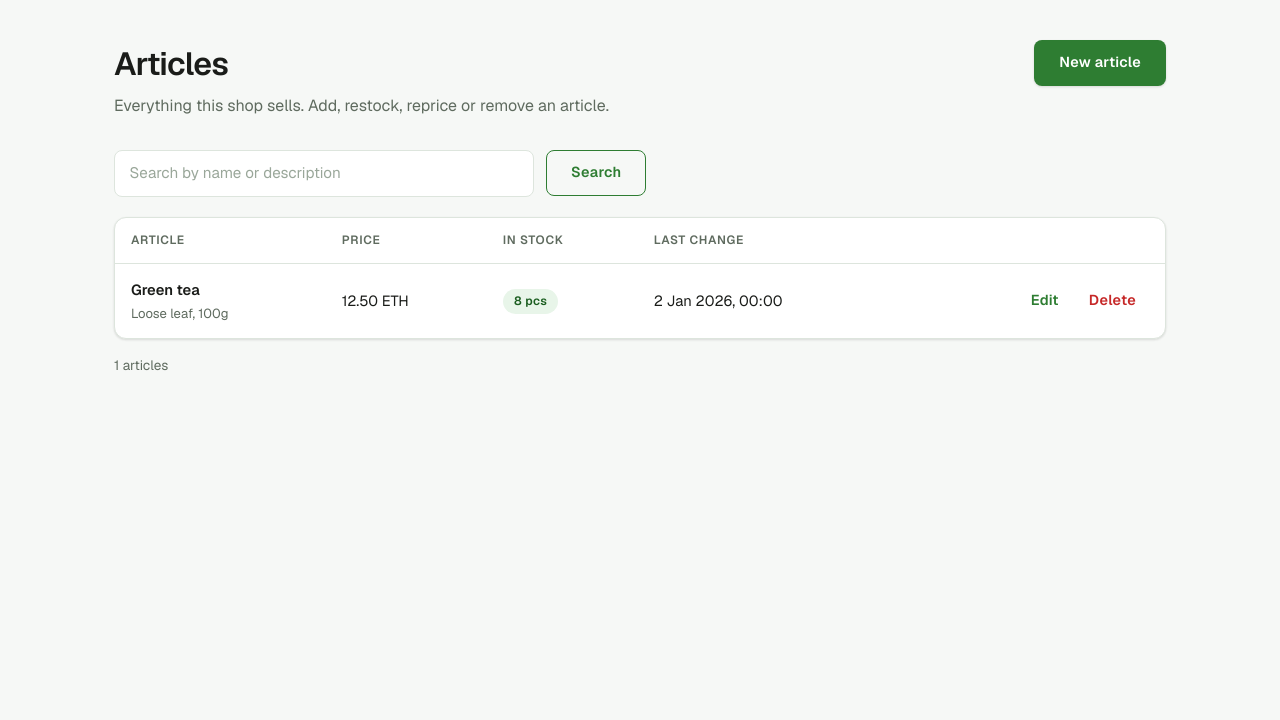
it: AdminArticlesPage › adding an article › refuses a fraction of a piece
Click the button "New article" at (1100, 63), box top-left (1034, 40), bottom-right (1166, 86)
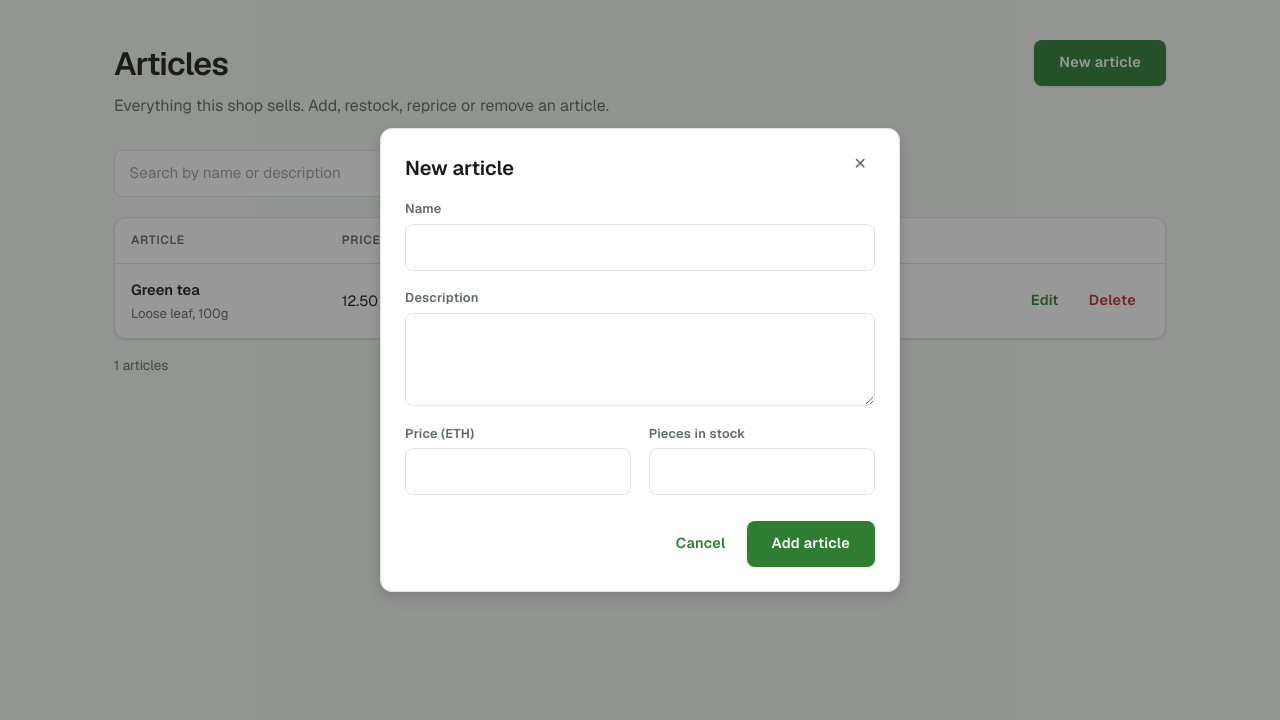
Type "Half a mug" into the field labelled "Name" at (640, 247), box top-left (405, 224), bottom-right (875, 271)
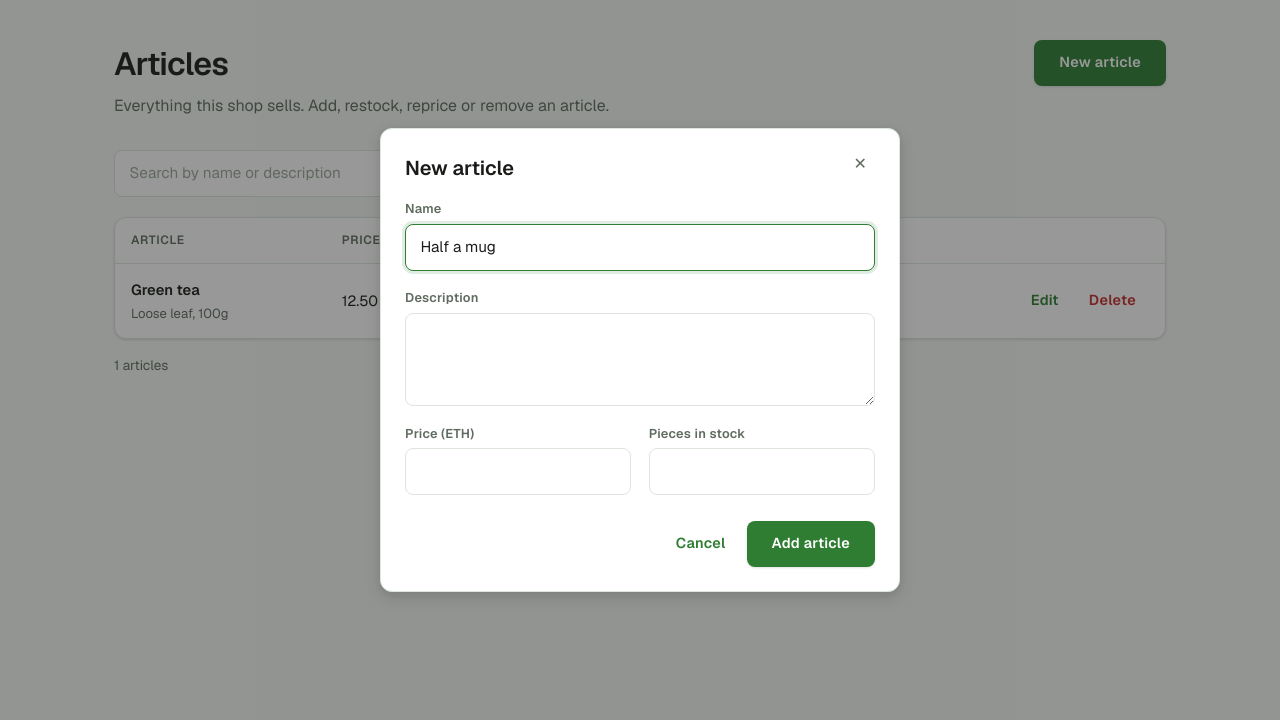
Type "1.00" into the number field labelled "Price (ETH)" at (518, 472), box top-left (405, 448), bottom-right (631, 496)
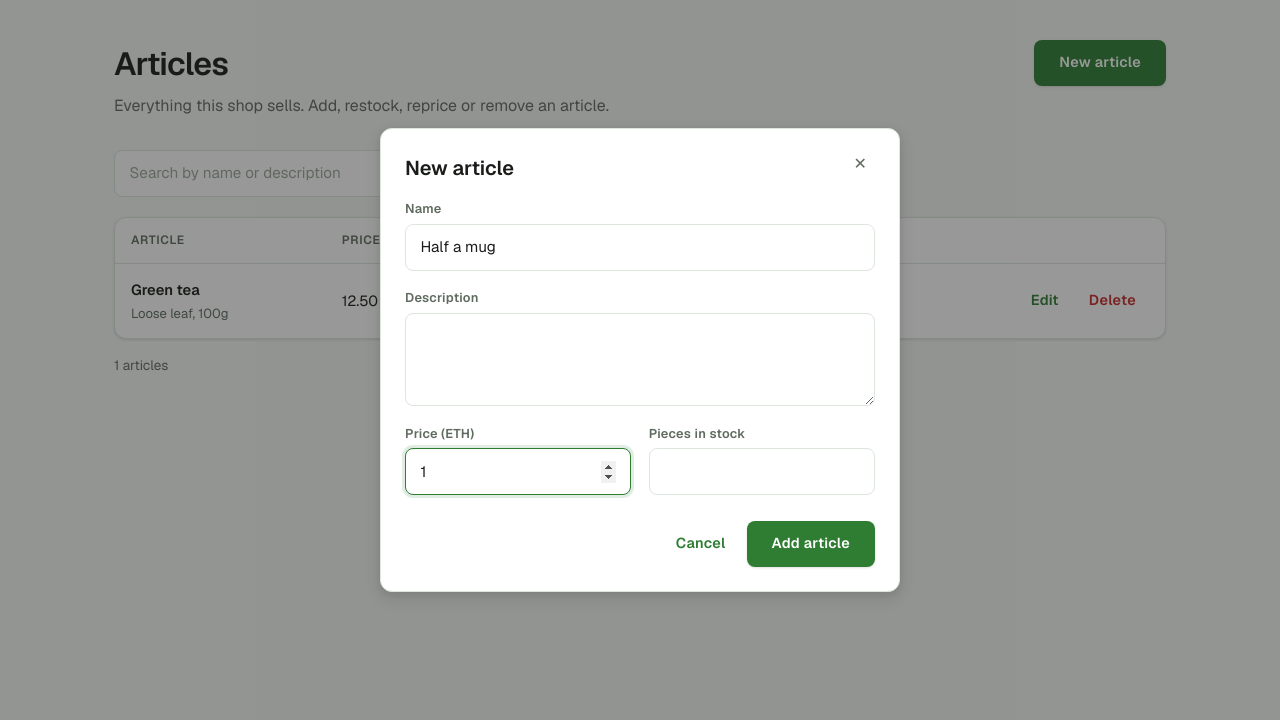
Type "1.5" into the number field labelled "Pieces in stock" at (762, 472), box top-left (649, 448), bottom-right (875, 496)
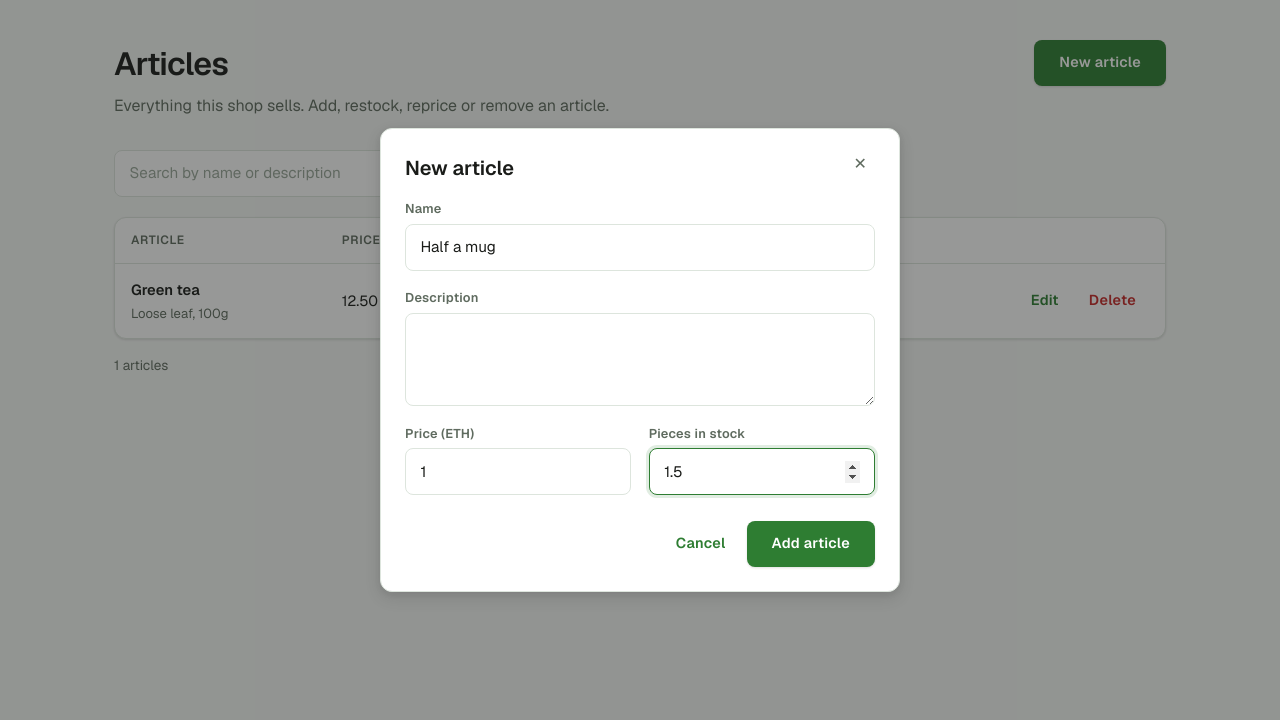
Click the button "Add article" at (811, 544), box top-left (746, 521), bottom-right (875, 567)
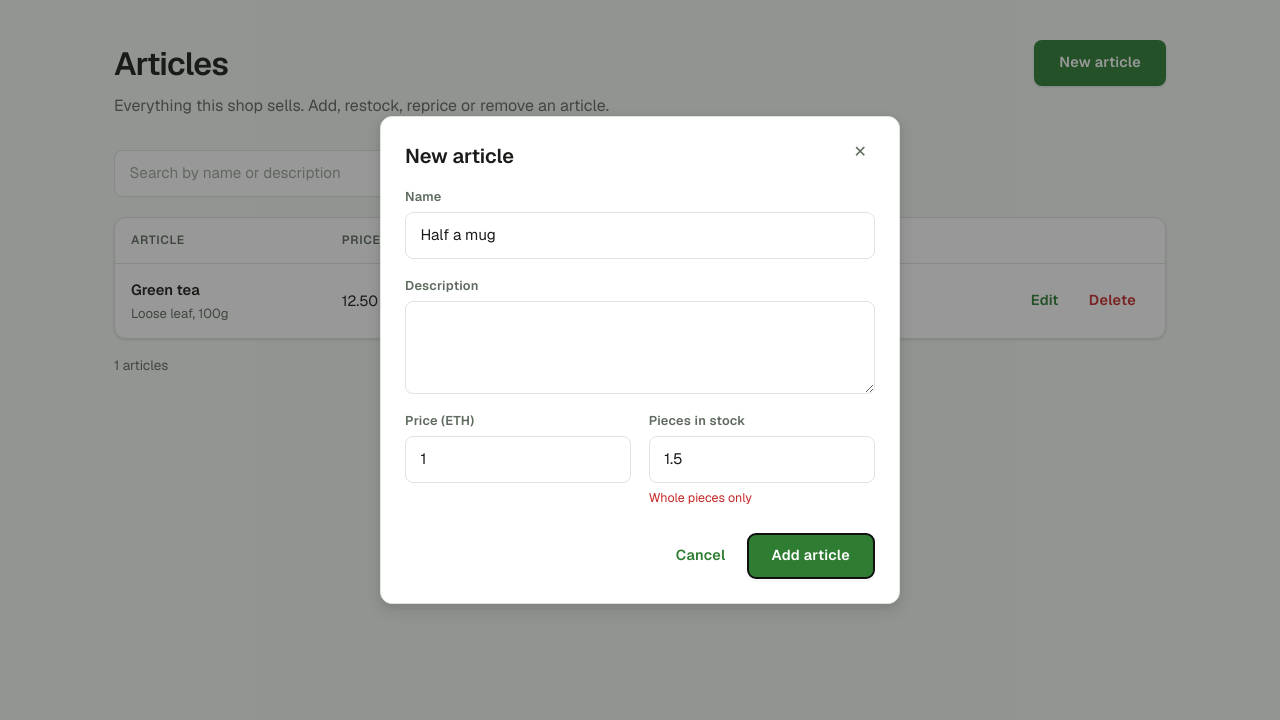
Result: the text "Whole pieces only" is shown at top-left (649, 489), bottom-right (752, 506)
